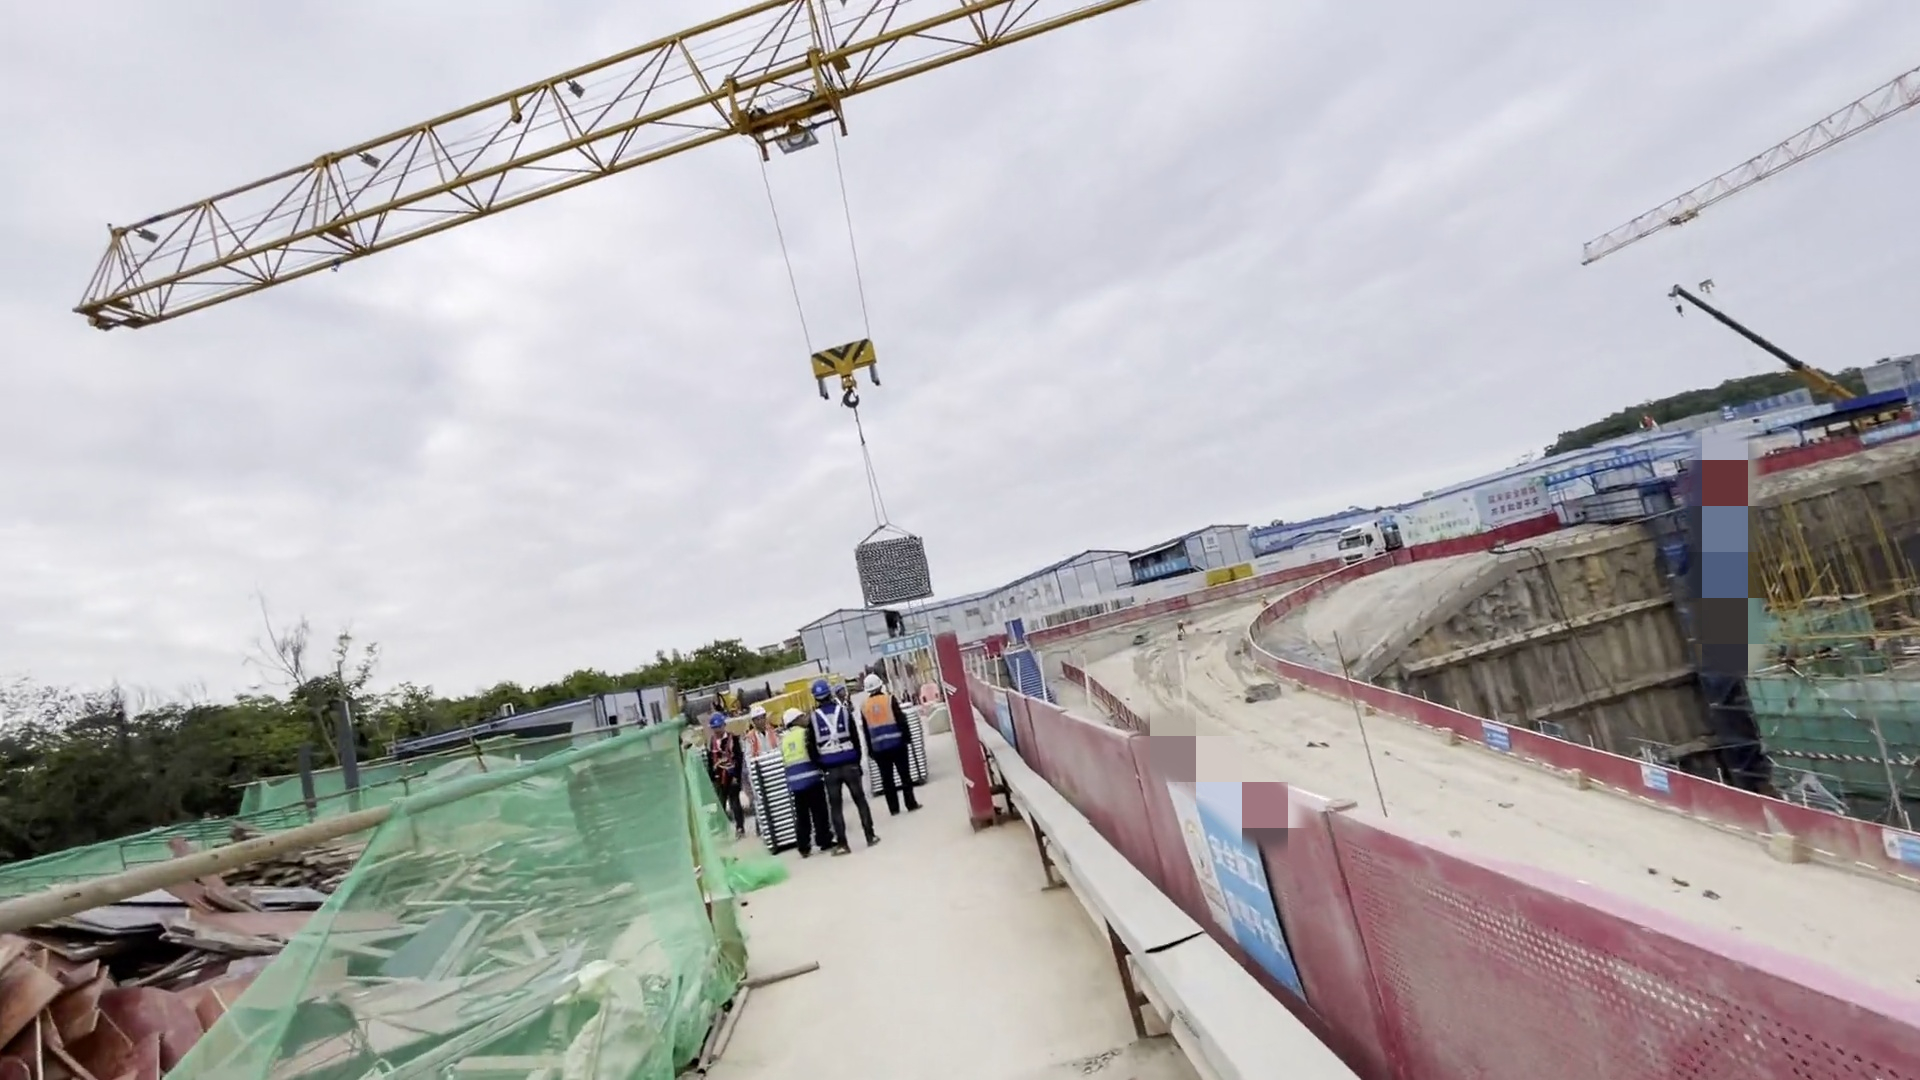fence: (988, 648, 1891, 1060)
helmet: (811, 679, 846, 709), (780, 705, 806, 723), (748, 700, 768, 720), (704, 712, 728, 727), (860, 673, 878, 689)
hook: (801, 337, 896, 404)
person: (809, 678, 882, 860), (860, 666, 926, 822), (776, 708, 837, 856), (704, 706, 755, 836), (740, 701, 783, 765)
scaffold: (858, 510, 957, 618)
slogan: (1177, 791, 1306, 979), (1120, 508, 1271, 616), (1428, 471, 1559, 546), (1471, 698, 1543, 771), (1625, 732, 1682, 806), (1856, 810, 1920, 858)
vest: (808, 706, 862, 774), (862, 693, 913, 759), (783, 730, 826, 795), (707, 731, 742, 790), (744, 724, 783, 767)
